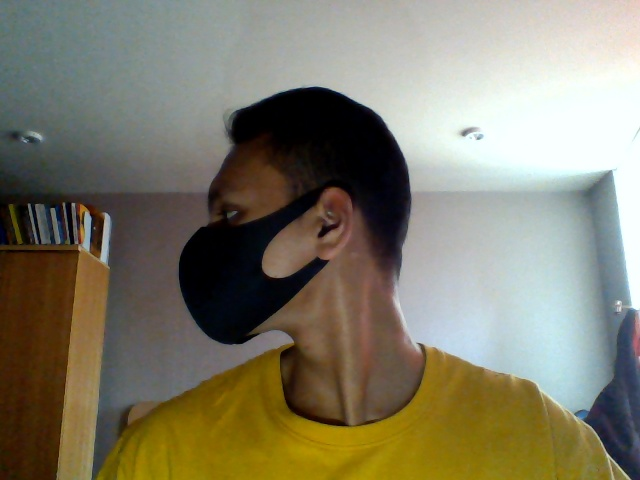mask: (178, 220, 307, 349)
